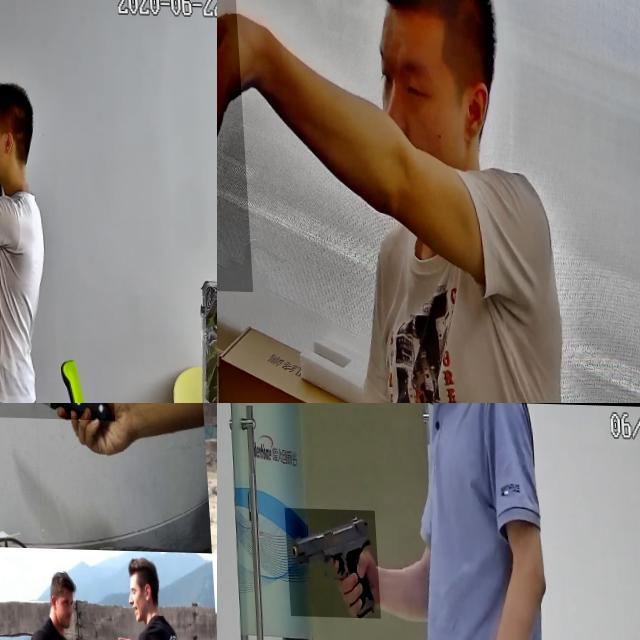-: (0, 403, 112, 427)
gun-knife-thesis - v11 Yolov5 augmented: (217, 0, 262, 291), (283, 508, 378, 618), (0, 67, 24, 146)
